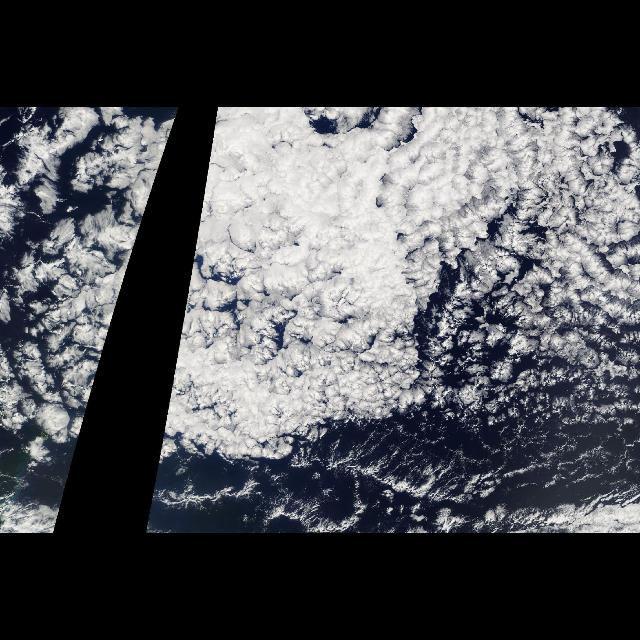Flower: (152, 110, 632, 503), (2, 110, 180, 503)
